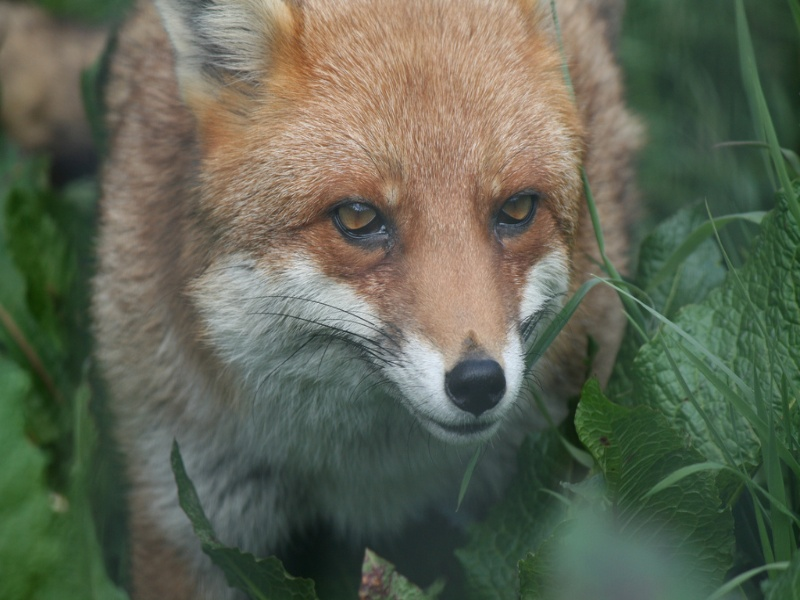fox: (11, 1, 644, 597)
